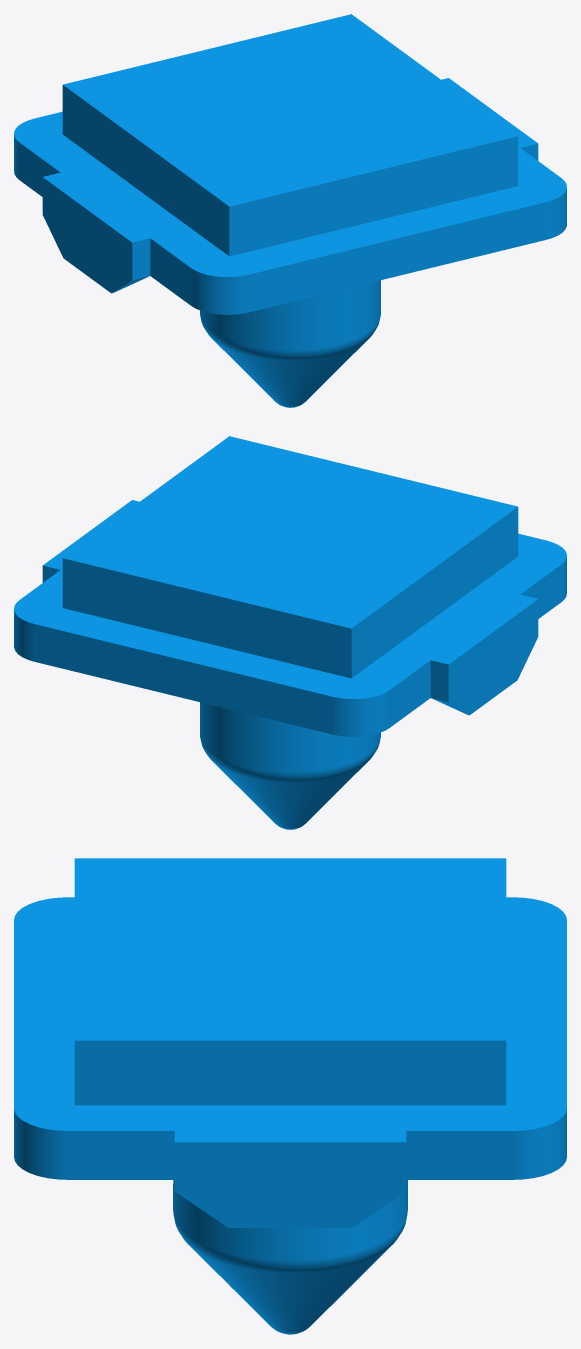
Rendered from FootB.obj.
3 renders of one model, top to bottom at view 1: azimuth 30°, elevation 25°; view 2: azimuth 150°, elevation 25°; view 3: azimuth 270°, elevation 25°, orthographic. The views are drawn at different scales.
Size of the model in its own units: 0.1125 by 0.0781 by 0.1025.
